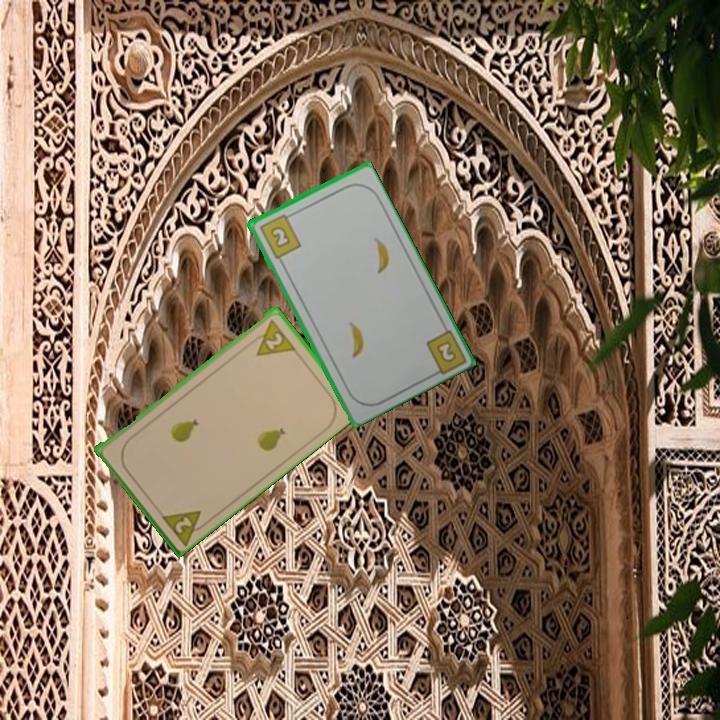2b: (256, 210, 304, 261), (432, 337, 459, 366)
2p: (246, 315, 298, 359), (157, 506, 212, 547)
